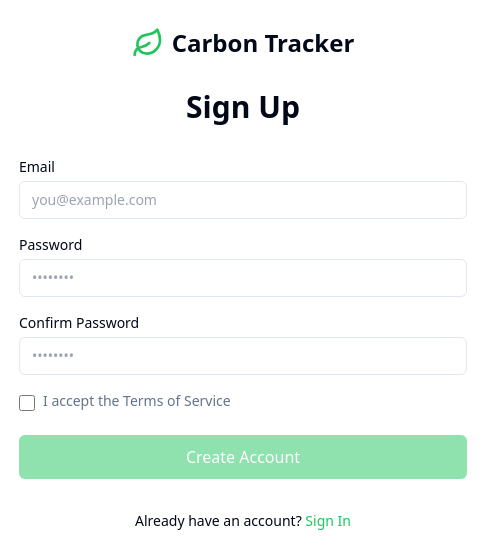
Scenario: SignUpPage › enables submit when form is fully valid
In the field with test id "email-input": (243, 200) [19,181,467,219], type "test@example.com"
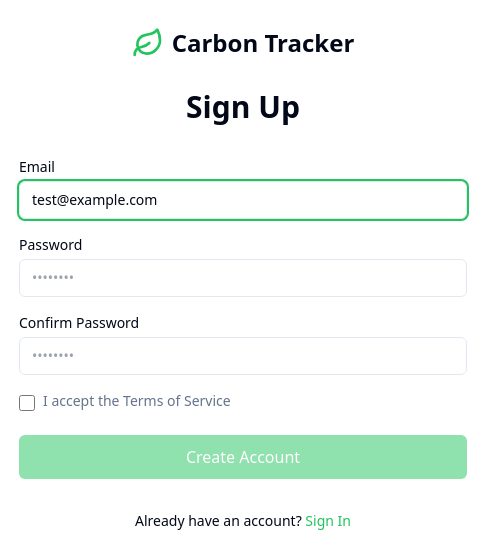
In the password field with test id "password-input": (243, 278) [19,259,467,297], type "password123"
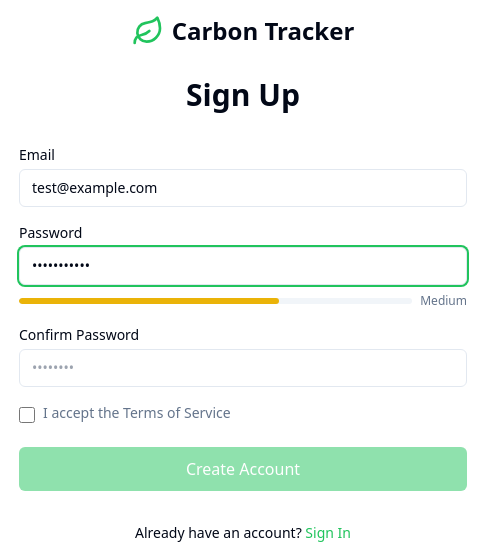
In the password field with test id "confirm-password-input": (243, 368) [19,349,467,387], type "password123"
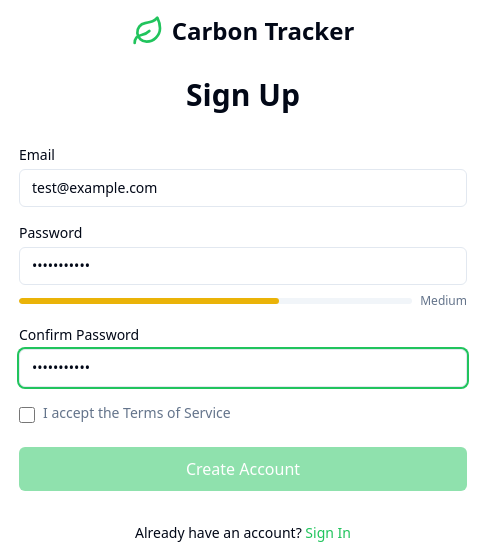
Click the checkbox with test id "terms-checkbox": (27, 415) [19,407,35,423]
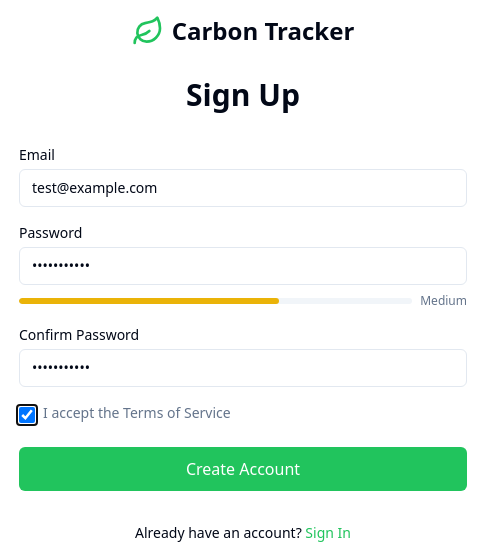
Expected: the button with test id "signup-button" is enabled, [19,447,467,491]
